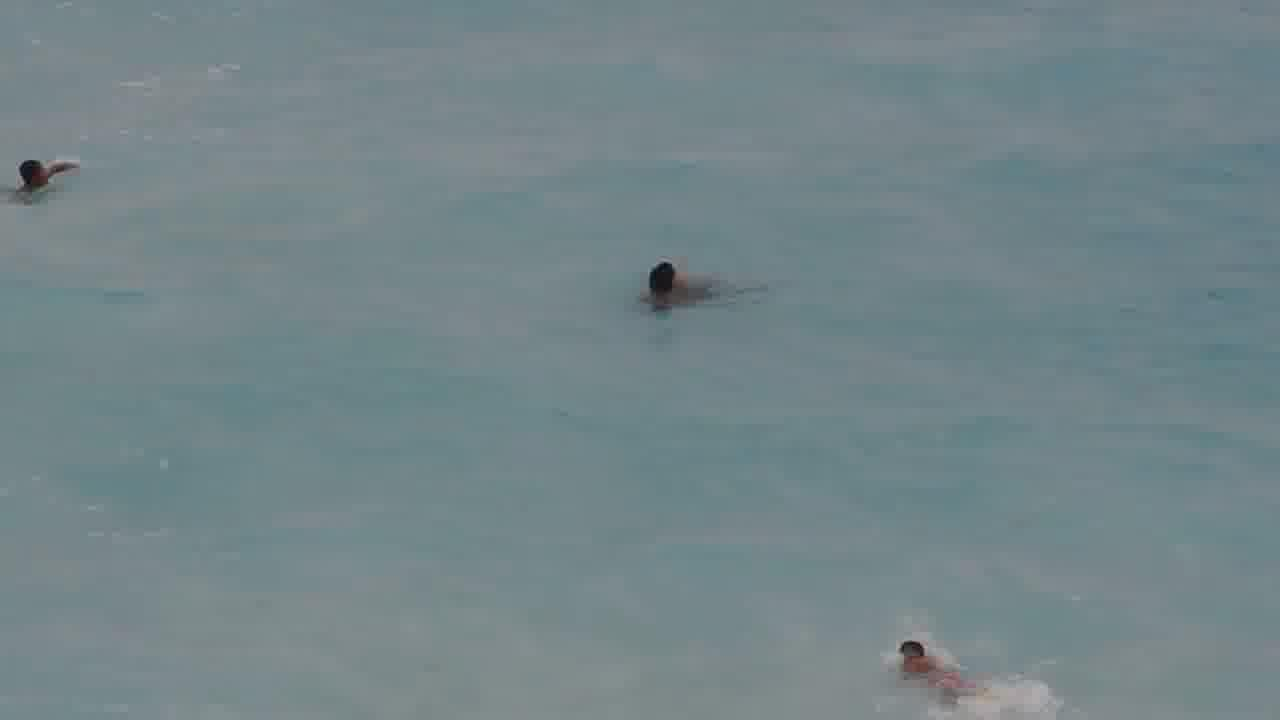swimmer: (627, 240, 711, 321), (7, 143, 90, 222), (881, 624, 959, 693)
